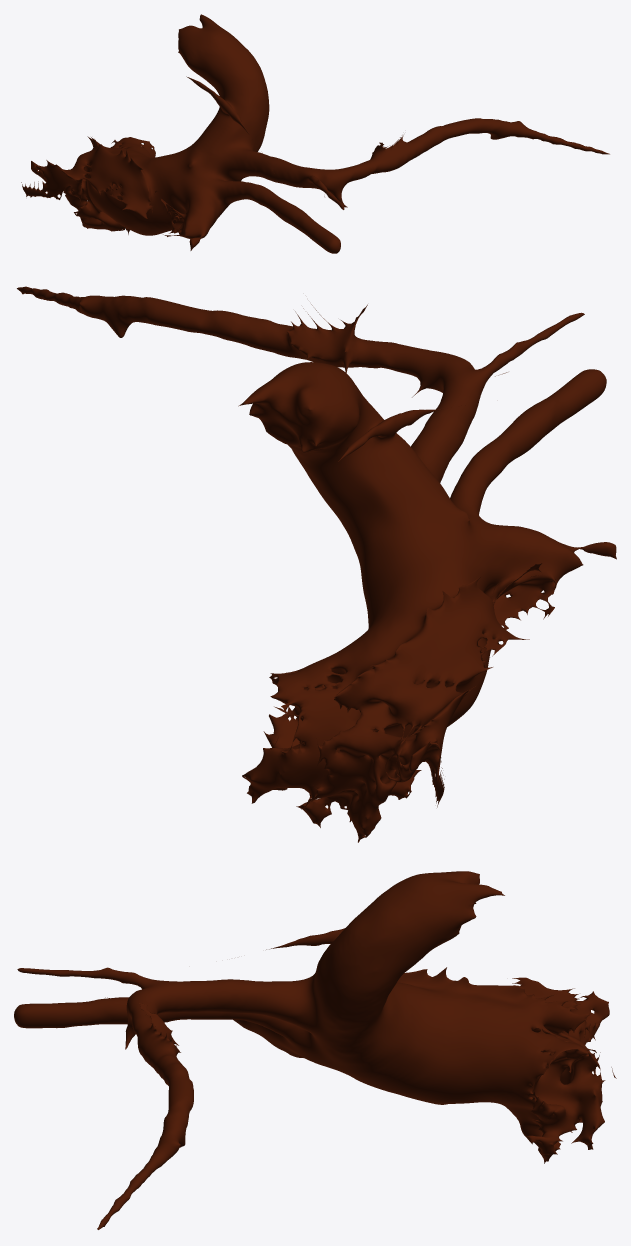
Rendered from Aorta.obj.
3 views of the same model, one above another, from view 1: azimuth 30°, elevation 25°; view 2: azimuth 150°, elevation 25°; view 3: azimuth 270°, elevation 25° (orthographic). The views are drawn at different scales.
Visible parts, largest first — view 1: grp1; view 2: grp1; view 3: grp1.
Boxes of the visible parts, bbox=[...] form: grp1: bbox=[21, 14, 609, 253]; grp1: bbox=[17, 286, 616, 842]; grp1: bbox=[14, 871, 616, 1229].
Size of the model in its own units: 173 by 86.39 by 148.
